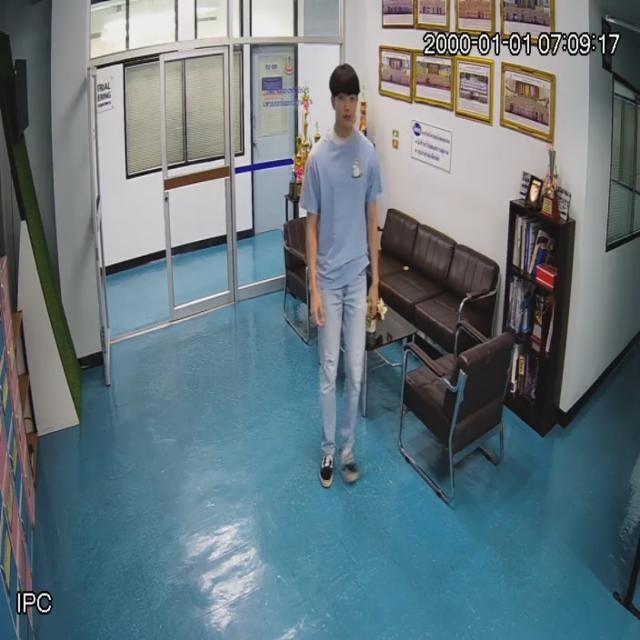normal: (306, 66, 385, 483)
